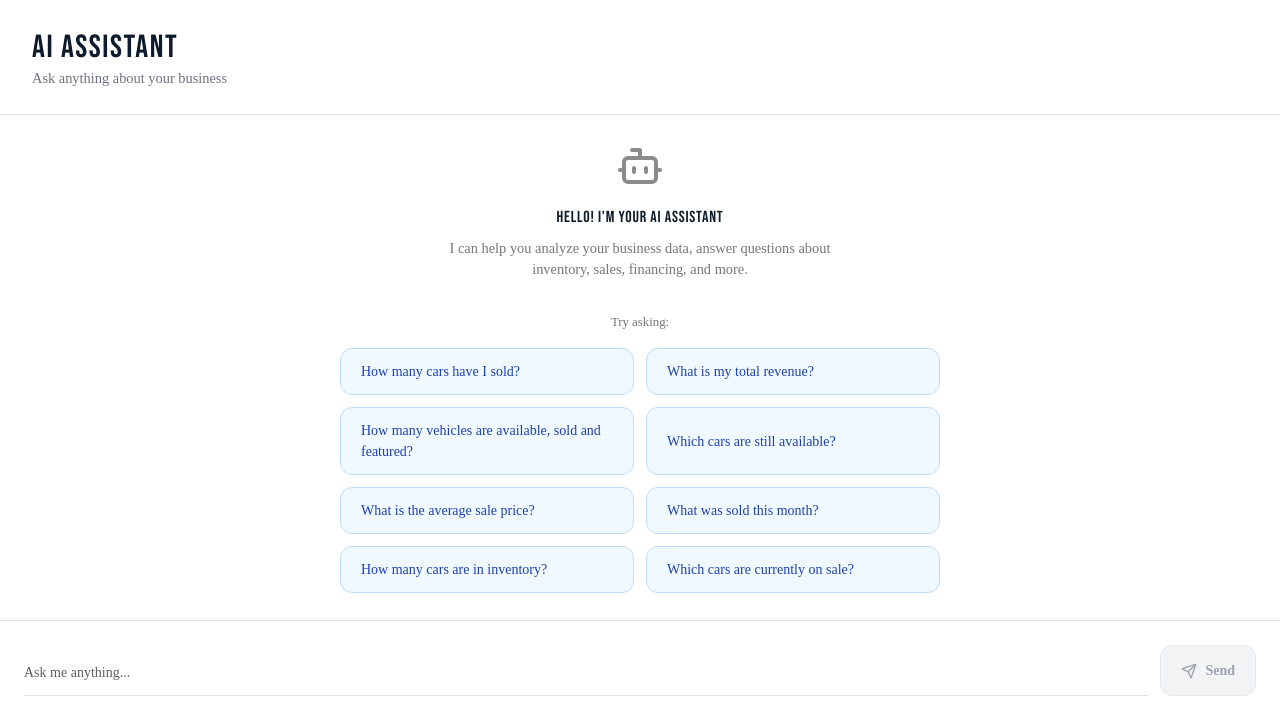
Test: AdminAI - request flow and rate-limit handling › shows a friendly message including retryAfter when the backend returns a controlled 429
The image size is (1280, 720).
Type "How many cars have I sold?" into the field with placeholder "Ask me anything...".
click(586, 670); type("How many cars have I sold?")  # box [24,645,1148,696]
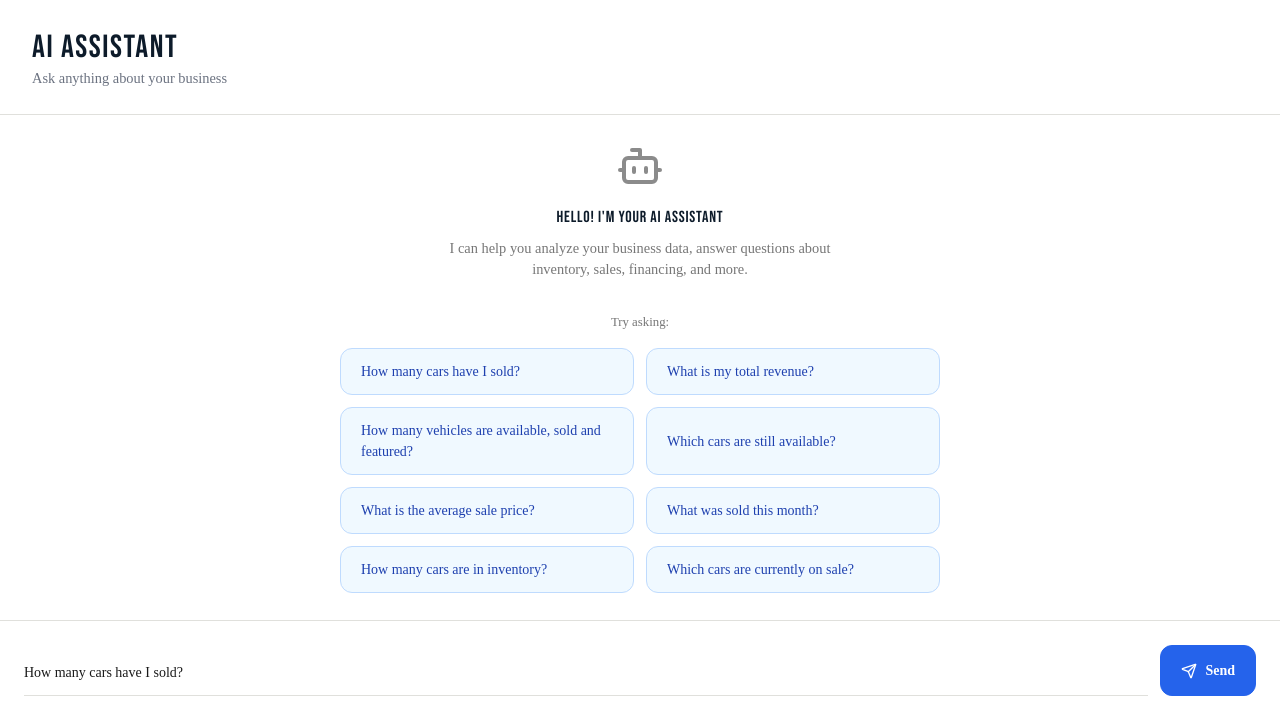
Click the button with id "admin-ai-send-button".
click(1208, 670)  # box [1160,645,1256,696]
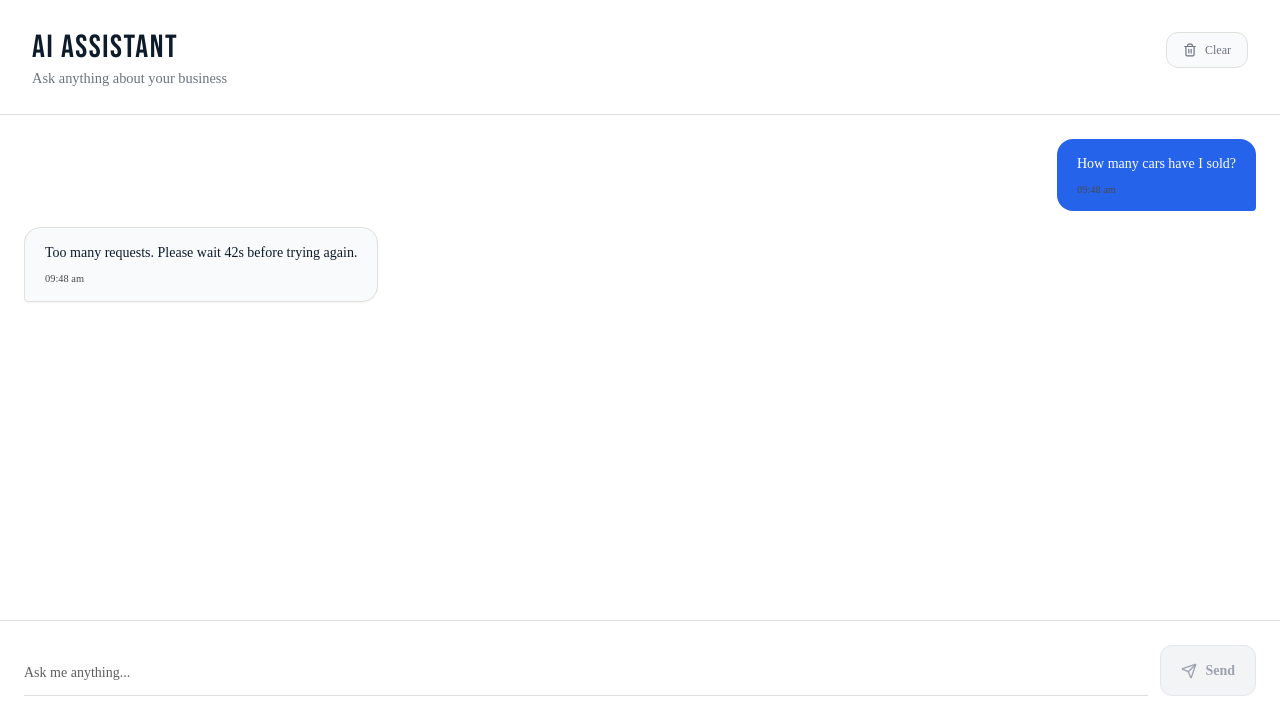
Expected: the text "Please wait 42s before trying again" is shown, [45,245,357,260]
